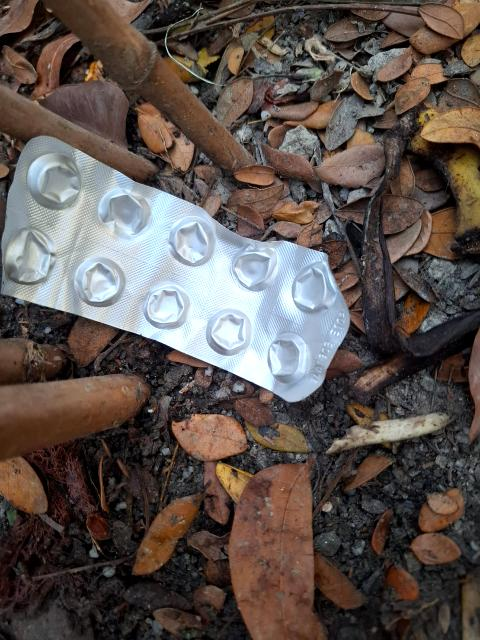medicine: (0, 134, 358, 402)
